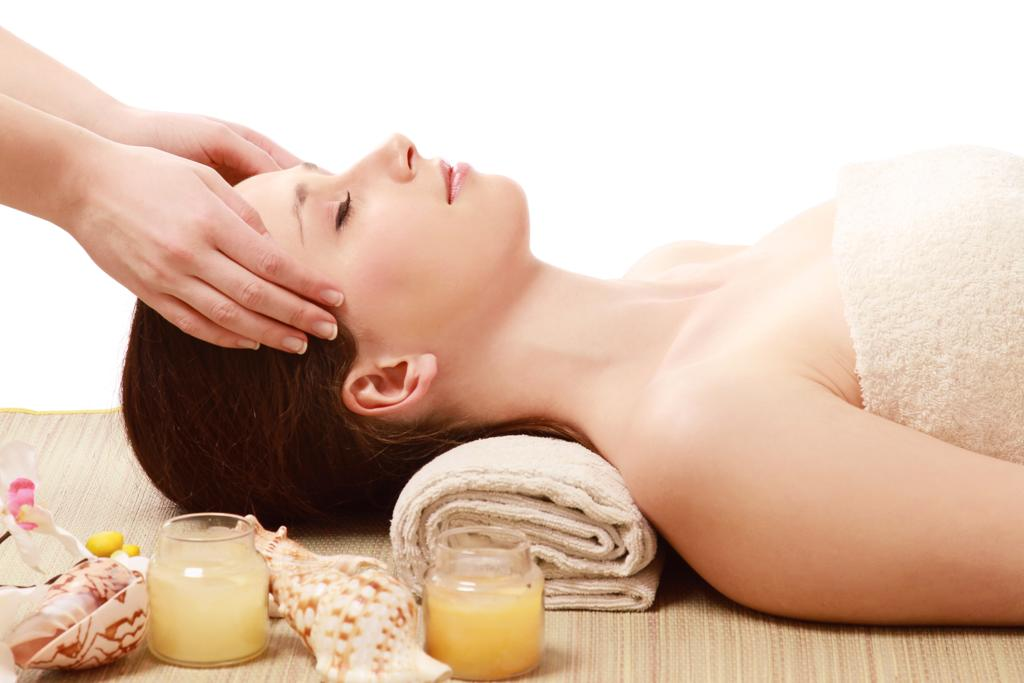face: (196, 134, 528, 306)
